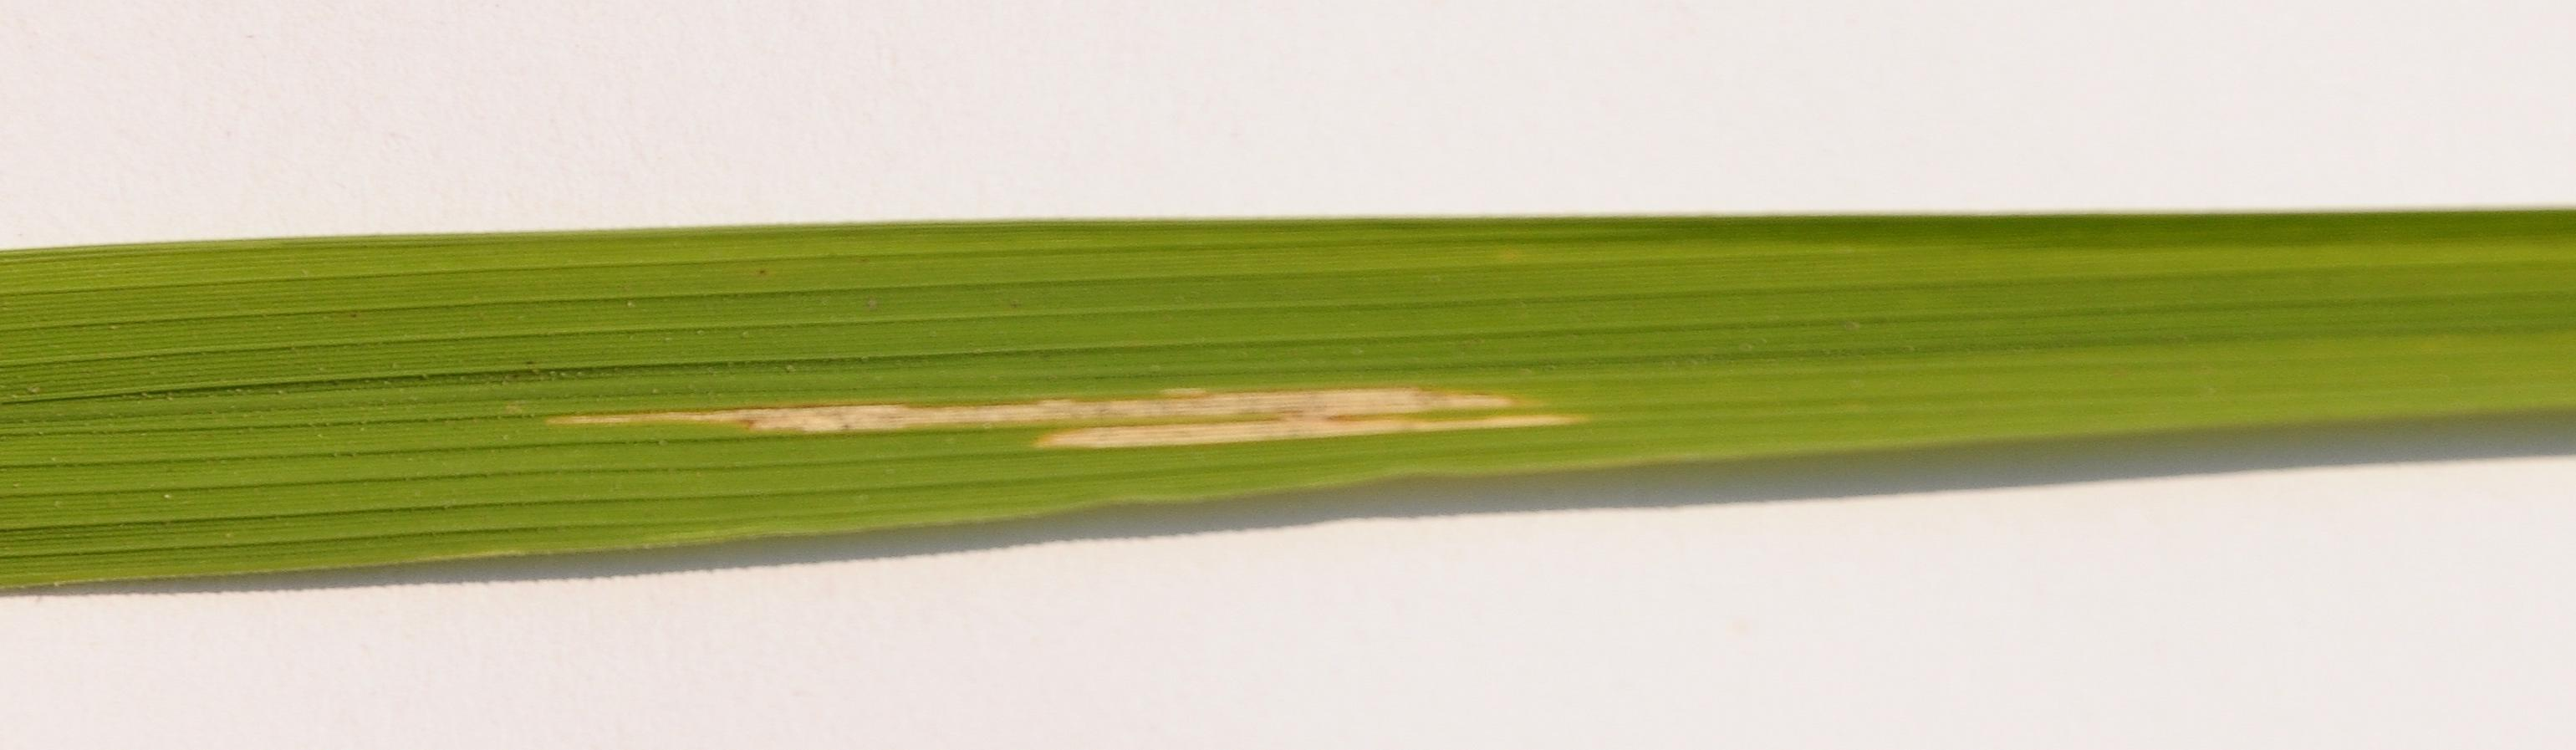bacterial_leaf_blight: (509, 343, 1671, 479)
